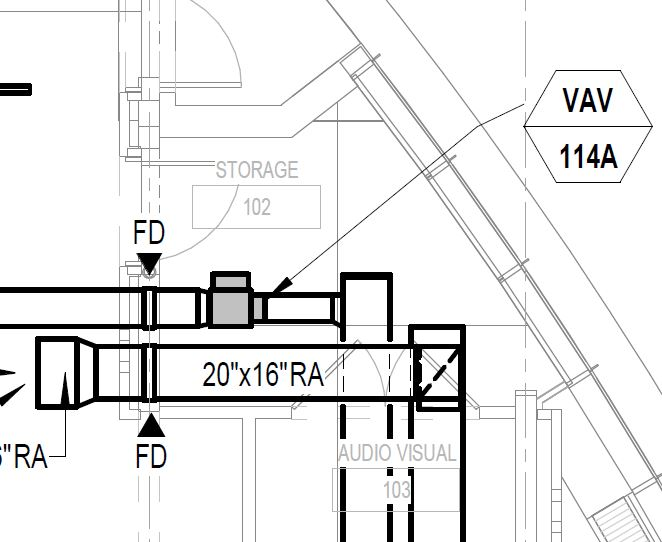VAV: (192, 255, 280, 343)
